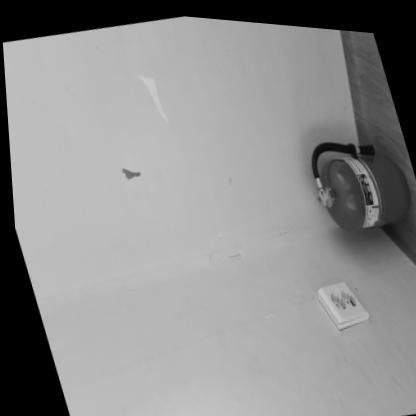FE: (300, 120, 416, 237)
